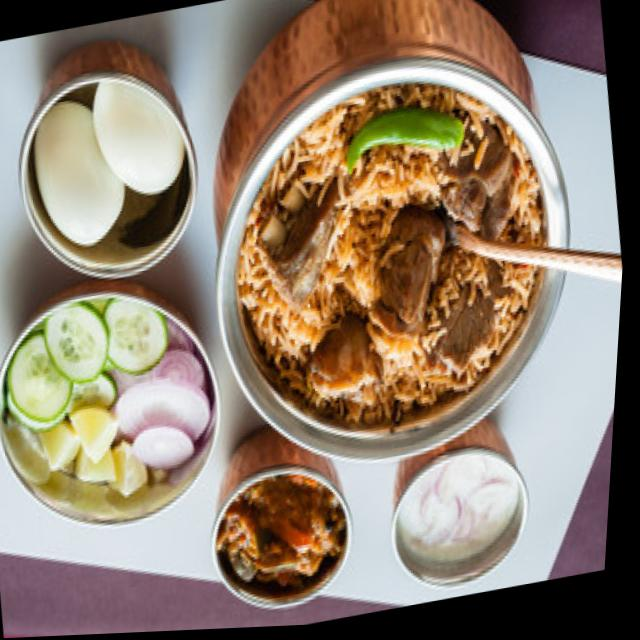BIRIYANI: (236, 84, 546, 433)
CURRY: (218, 475, 344, 587)
EGG: (34, 82, 184, 247)
